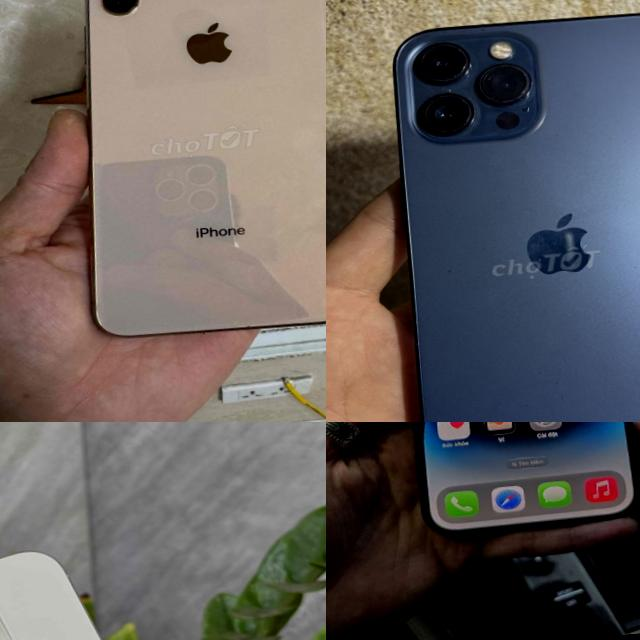gen_12_13: (374, 0, 640, 422)
gen_14: (382, 422, 640, 548)
gen_16: (0, 531, 222, 640)
gen_x_xs: (65, 0, 326, 353)
